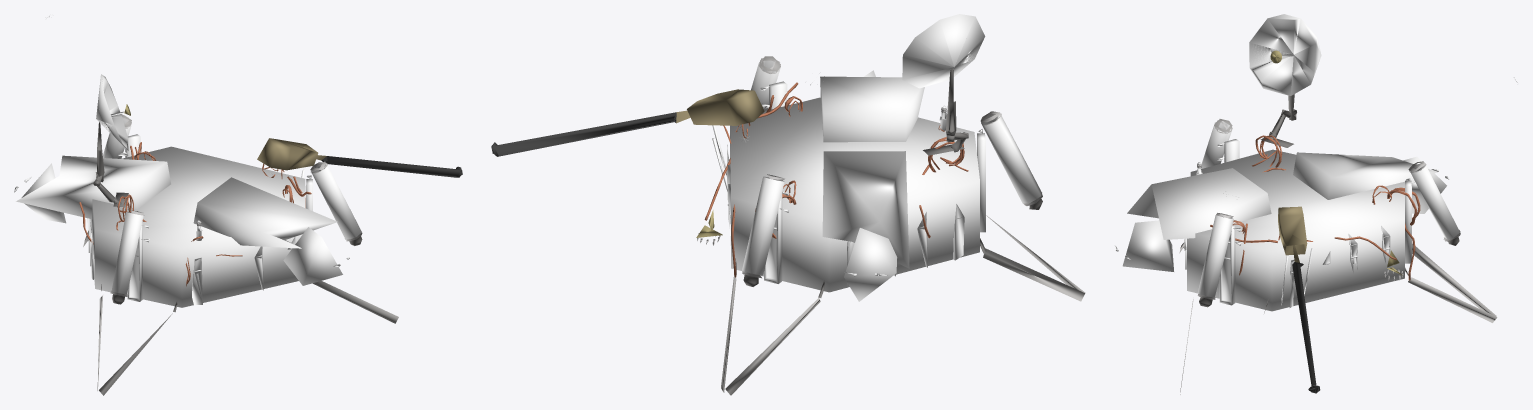
Rendered from viking.glb.
3 views of the same model, side by side, from view 1: azimuth 30°, elevation 25°; view 2: azimuth 150°, elevation 25°; view 3: azimuth 270°, elevation 25° (orthographic). The views are drawn at different scales.
Visible parts, largest first — view 1: polySurfa1, polySurfa2; view 2: polySurfa1, polySurfa2; view 3: polySurfa1, polySurfa2.
Boxes of the visible parts, box(x1,y1,x2,y2) form: polySurfa1: box(14, 16, 462, 395); polySurfa2: box(79, 142, 293, 286); polySurfa1: box(491, 14, 1085, 395); polySurfa2: box(704, 98, 968, 277); polySurfa1: box(1114, 14, 1517, 394); polySurfa2: box(1196, 135, 1420, 280).
Size of the model in its own units: 15.09 by 8.84 by 12.26.
4 materials, 4 textured.
